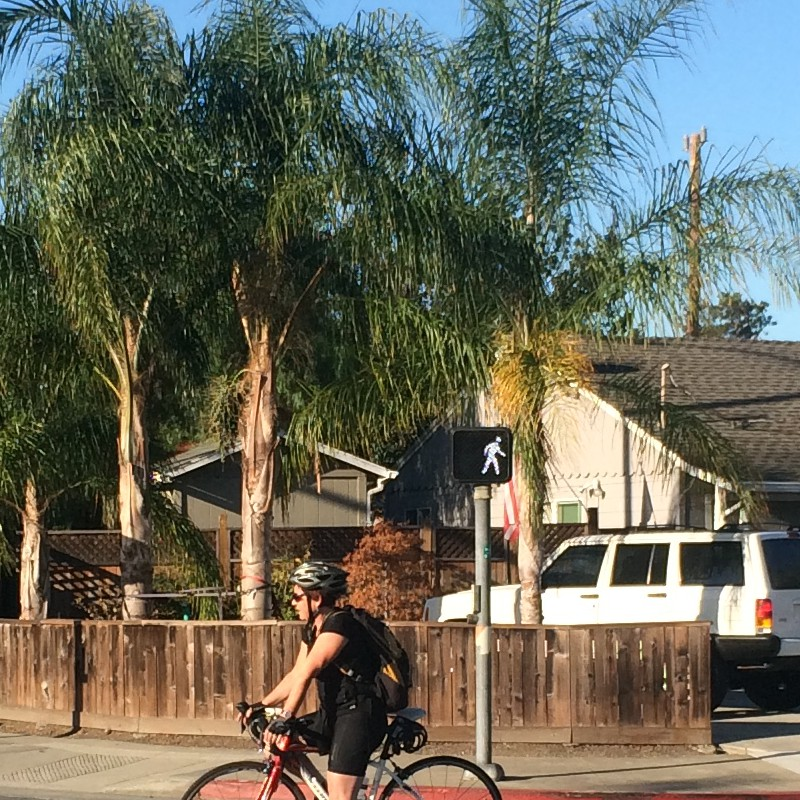go: (445, 427, 521, 486)
